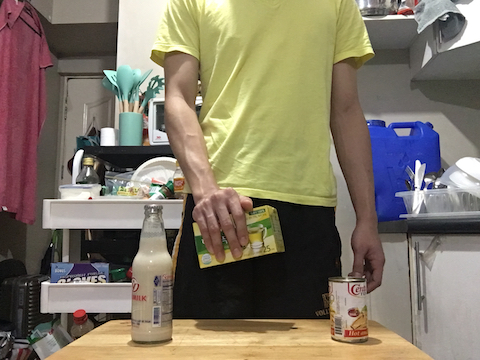bottle: (129, 199, 176, 347)
box: (191, 202, 288, 271)
can: (327, 273, 370, 346)
grab: (195, 185, 256, 264)
